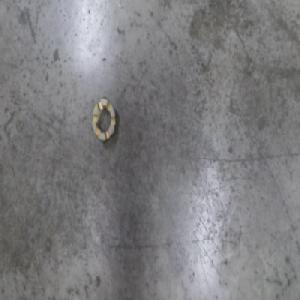Nut: (90, 96, 118, 145)
